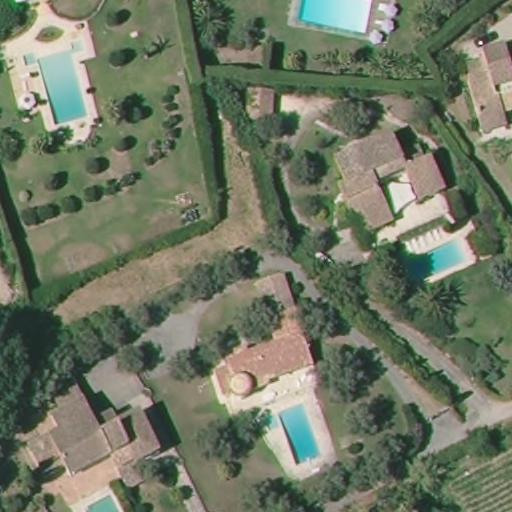pool: (17, 36, 91, 123), (275, 399, 322, 465), (409, 233, 469, 282), (296, 0, 373, 35), (61, 491, 118, 508)
